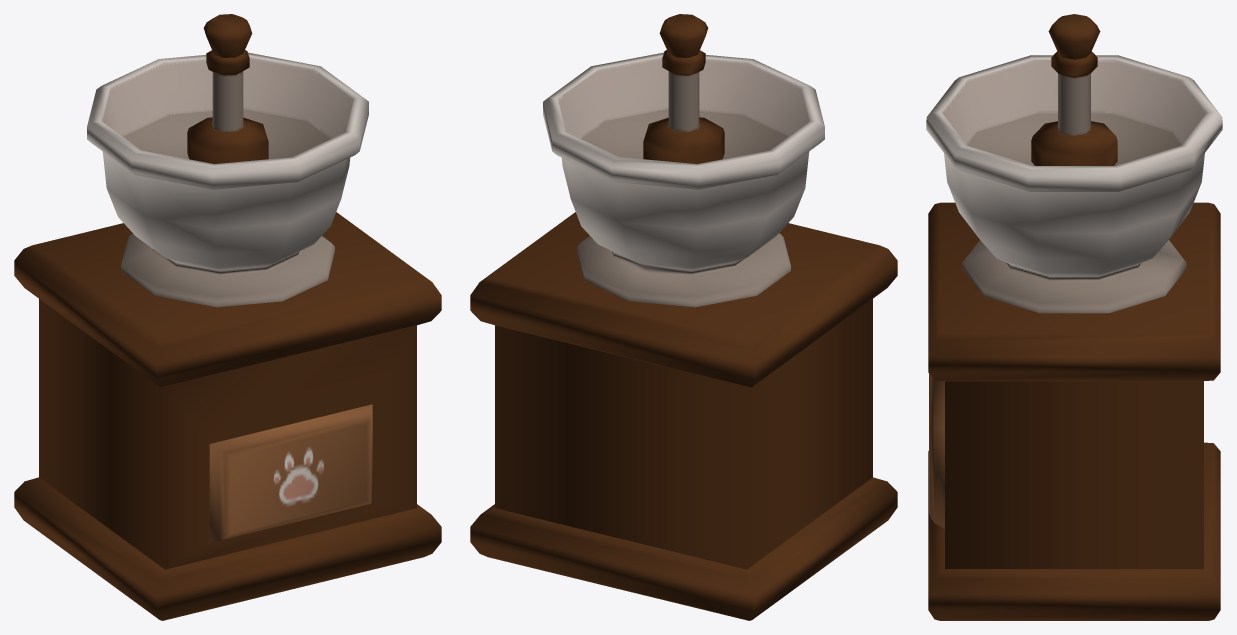
File: Grinder.fbx
The picture shows the model from 3 angles, left to right: view 1: azimuth 30°, elevation 25°; view 2: azimuth 150°, elevation 25°; view 3: azimuth 270°, elevation 25°; orthographic projection. The views are drawn at different scales.
Visible parts, largest first — view 1: coffee grinder; view 2: coffee grinder; view 3: coffee grinder.
Boxes of the visible parts, <box> form: coffee grinder: <box>14,14,441,620</box>; coffee grinder: <box>470,14,897,620</box>; coffee grinder: <box>926,14,1222,620</box>.
Size of the model in its own units: 49.6 by 86.57 by 43.5.
